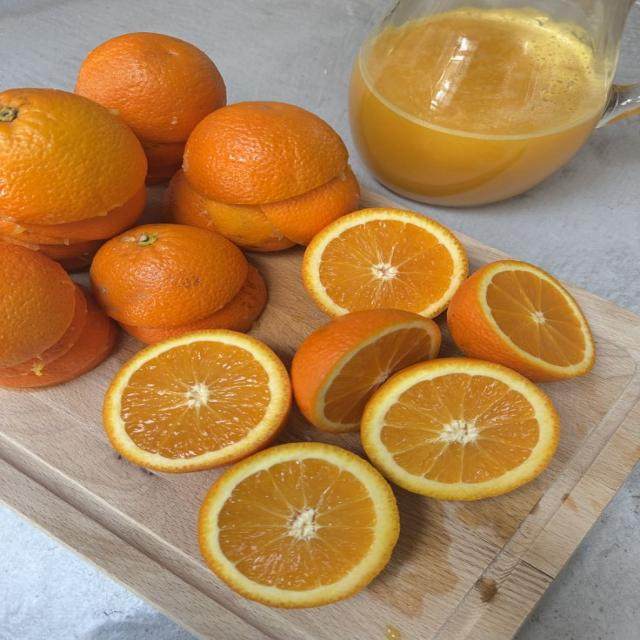orange: (199, 443, 399, 607), (166, 102, 359, 251), (361, 359, 559, 500), (104, 331, 291, 472), (0, 89, 146, 225), (292, 310, 440, 432), (447, 261, 595, 381), (303, 209, 467, 317), (183, 102, 347, 204), (75, 33, 226, 142), (91, 224, 248, 326), (121, 265, 266, 344), (0, 292, 117, 388), (163, 171, 294, 251), (0, 243, 75, 367), (0, 286, 86, 378), (12, 186, 146, 243), (262, 166, 359, 244), (207, 200, 294, 251), (0, 236, 104, 269), (162, 170, 216, 230), (141, 141, 185, 167), (146, 166, 179, 185)
